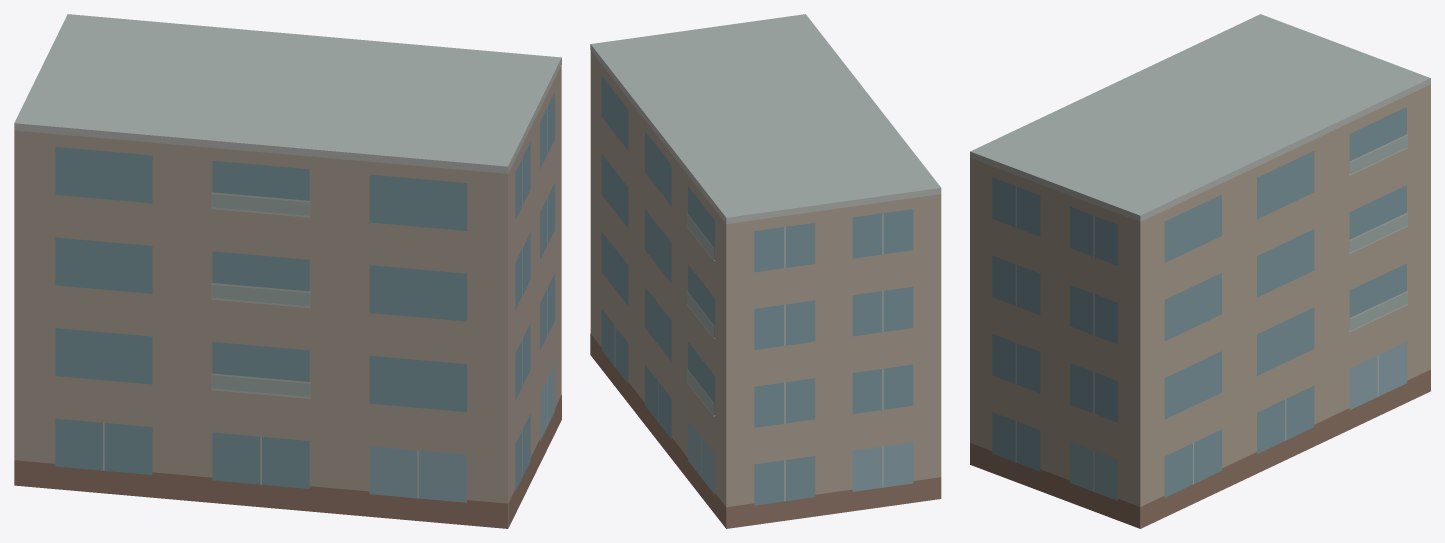
Rendered from residential-73f09073-1224-4fb1-b253-a13c6a3043e6.glb.
3 views of the same model, side by side, from view 1: azimuth 30°, elevation 25°; view 2: azimuth 150°, elevation 25°; view 3: azimuth 270°, elevation 25° (orthographic). The views are drawn at different scales.
Visible parts, largest first — view 1: residential-73f09073-1224-4fb1-b253-a13c6a3043e6.tmp; view 2: residential-73f09073-1224-4fb1-b253-a13c6a3043e6.tmp; view 3: residential-73f09073-1224-4fb1-b253-a13c6a3043e6.tmp.
Part boxes in pixels (bbox=[...]): residential-73f09073-1224-4fb1-b253-a13c6a3043e6.tmp: bbox=[14, 14, 561, 528]; residential-73f09073-1224-4fb1-b253-a13c6a3043e6.tmp: bbox=[590, 14, 941, 528]; residential-73f09073-1224-4fb1-b253-a13c6a3043e6.tmp: bbox=[970, 14, 1430, 528].
Size of the model in its own units: 16.86 by 12.2 by 16.27.
